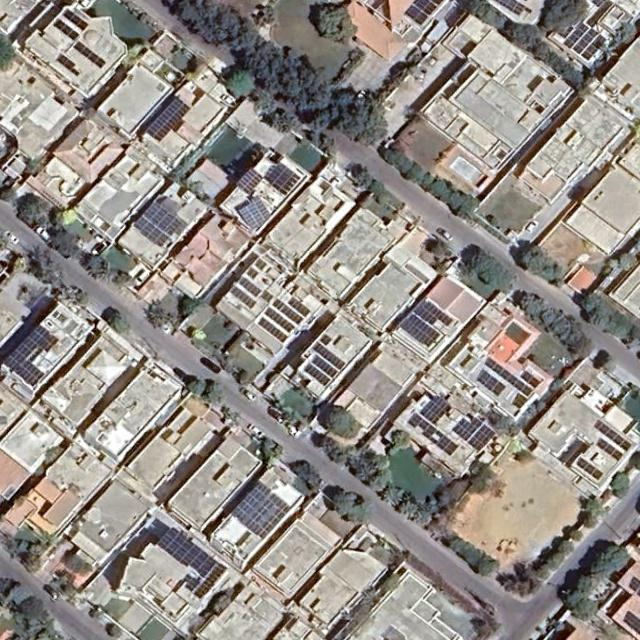solar panel: (2, 321, 69, 391), (229, 480, 290, 541), (156, 525, 218, 581), (133, 198, 185, 249), (144, 95, 191, 144), (484, 358, 533, 397), (592, 417, 634, 453), (400, 312, 440, 348), (414, 298, 453, 334), (264, 159, 301, 196), (236, 195, 271, 232), (193, 561, 227, 599), (421, 424, 459, 457), (452, 412, 483, 443), (73, 41, 107, 69), (467, 423, 498, 453), (313, 343, 346, 371), (263, 306, 295, 334), (421, 394, 450, 424), (256, 317, 288, 344), (236, 167, 264, 194), (572, 27, 599, 55), (476, 371, 506, 396), (273, 299, 302, 324), (595, 437, 625, 461), (496, 0, 532, 20), (563, 22, 589, 49), (304, 363, 332, 387), (62, 8, 90, 32), (52, 18, 80, 41), (576, 457, 604, 480), (583, 34, 607, 60), (57, 54, 83, 77), (311, 356, 337, 378), (230, 286, 256, 308), (406, 412, 430, 435), (405, 4, 428, 26), (288, 297, 312, 318), (238, 276, 262, 297), (621, 611, 640, 634), (412, 0, 437, 17), (521, 371, 542, 387), (183, 575, 199, 591), (512, 393, 528, 409), (628, 575, 640, 591), (245, 267, 259, 280), (255, 258, 267, 271)
